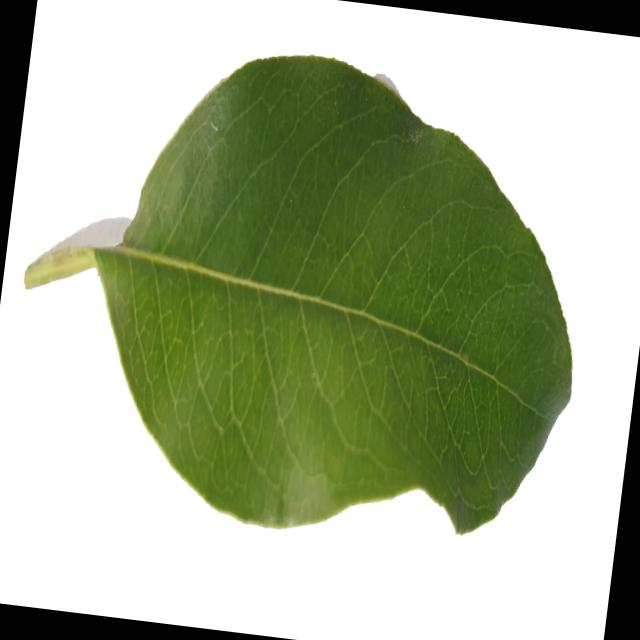Medicinal-Sandalwood: (0, 22, 609, 564)
